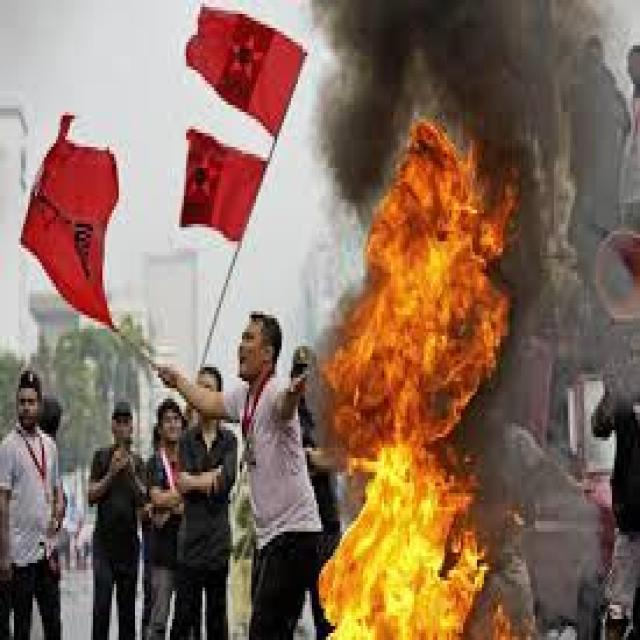Fire: (318, 119, 516, 638)
Smoke: (312, 0, 605, 115), (520, 118, 640, 350), (324, 0, 372, 224), (372, 119, 410, 150), (374, 151, 396, 186)
